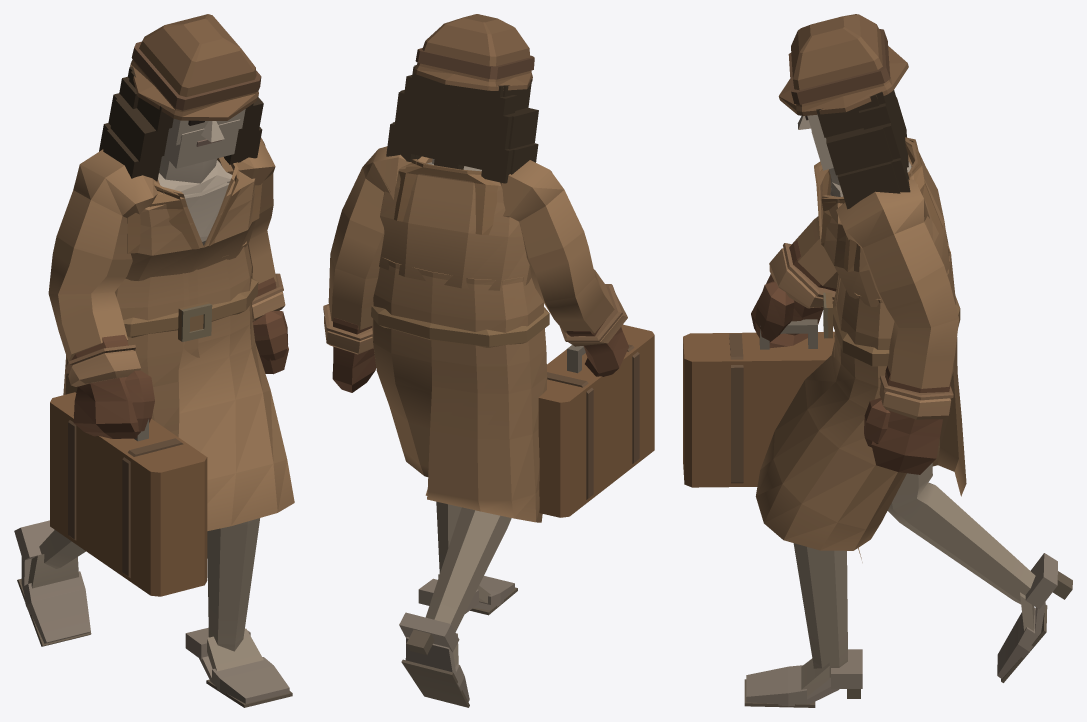
Rendered from passenger-ac425a__walk1.glb.
The picture shows the model from 3 angles, left to right: view 1: azimuth 30°, elevation 25°; view 2: azimuth 150°, elevation 25°; view 3: azimuth 270°, elevation 25°; orthographic projection. The views are drawn at different scales.
Parts seen in each view (by area): view 1: passenger-ac425a__walk1; view 2: passenger-ac425a__walk1; view 3: passenger-ac425a__walk1.
Part boxes in pixels (x1=…): passenger-ac425a__walk1: x1=14, y1=14, x2=294, y2=707; passenger-ac425a__walk1: x1=323, y1=14, x2=654, y2=707; passenger-ac425a__walk1: x1=683, y1=14, x2=1072, y2=707.
Bounding box in the file's own units: 0.746 × 1.77 × 0.9274.
